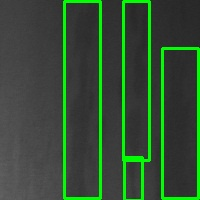inclusion: (64, 1, 100, 198), (162, 48, 198, 198), (123, 1, 149, 160), (124, 157, 142, 200)
